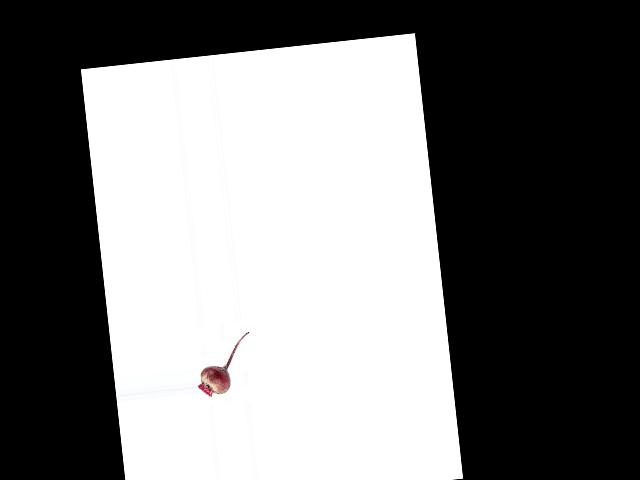beet: (192, 331, 255, 397)
